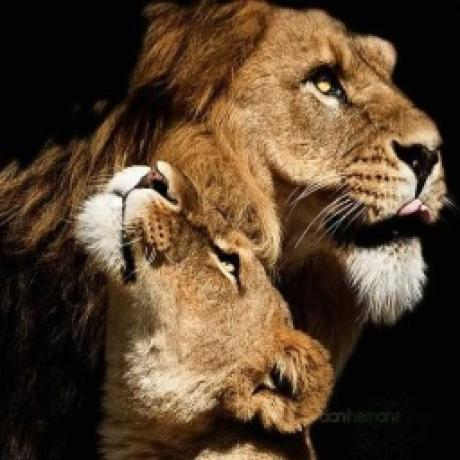Lion: (0, 0, 446, 365), (70, 156, 338, 460)
